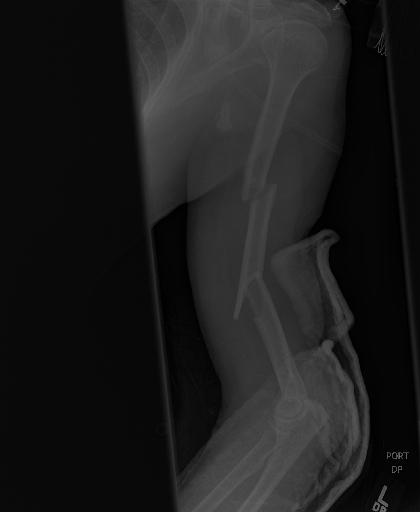fracture: (225, 258, 281, 345), (236, 138, 290, 224)
